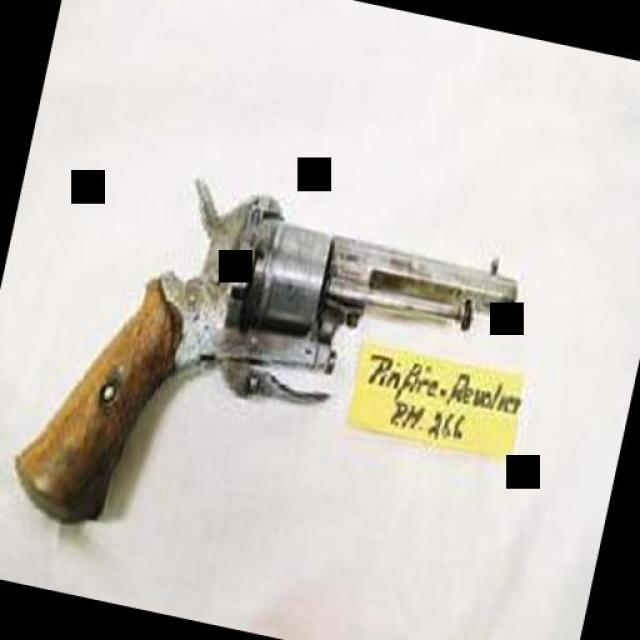gun: (0, 134, 532, 607)
